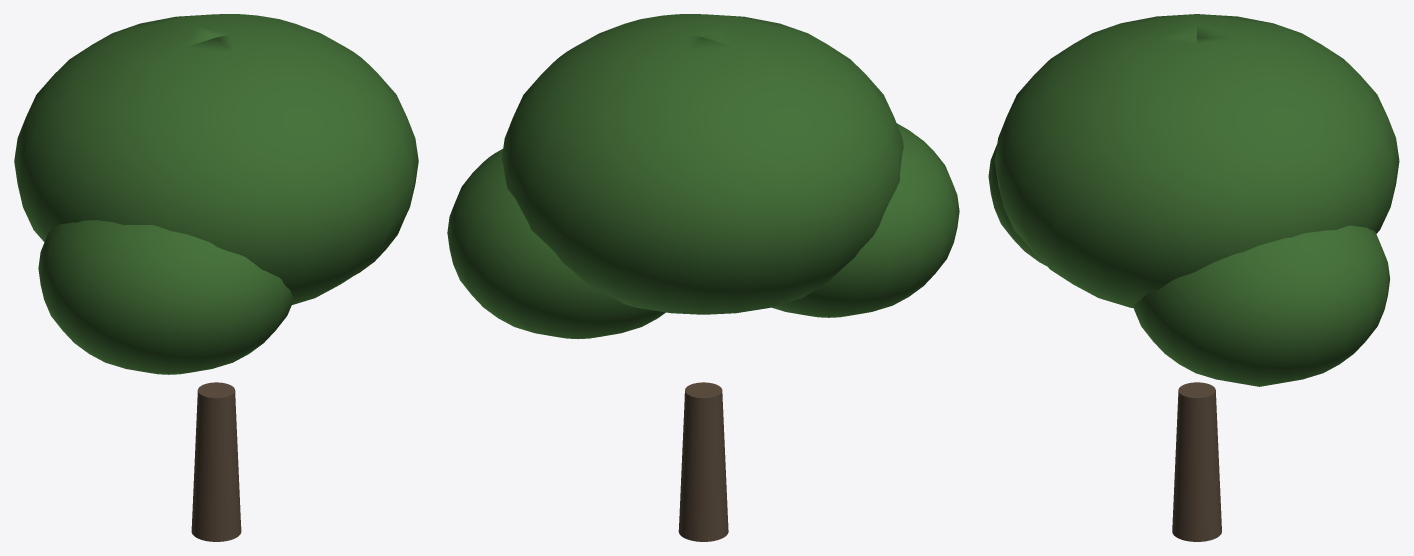
The model's file is e04-english-oak.glb.
3 views of the same model, side by side, from view 1: azimuth 30°, elevation 25°; view 2: azimuth 150°, elevation 25°; view 3: azimuth 270°, elevation 25° (orthographic).
Parts seen in each view (by area): view 1: part1, part3, part0; view 2: part1, part2, part3, part0; view 3: part1, part2, part0, part3.
Boxes of the visible parts, x1,y1,x2,y2 form: part1: [14, 14, 418, 304]; part3: [38, 220, 294, 374]; part0: [191, 382, 241, 541]; part1: [501, 14, 903, 314]; part2: [447, 149, 665, 339]; part3: [772, 123, 959, 317]; part0: [678, 382, 728, 541]; part1: [994, 14, 1399, 308]; part2: [1133, 225, 1389, 386]; part0: [1172, 382, 1221, 541]; part3: [988, 144, 1046, 265].
Bounding box in the file's own units: 15099 × 17500 × 13192.
